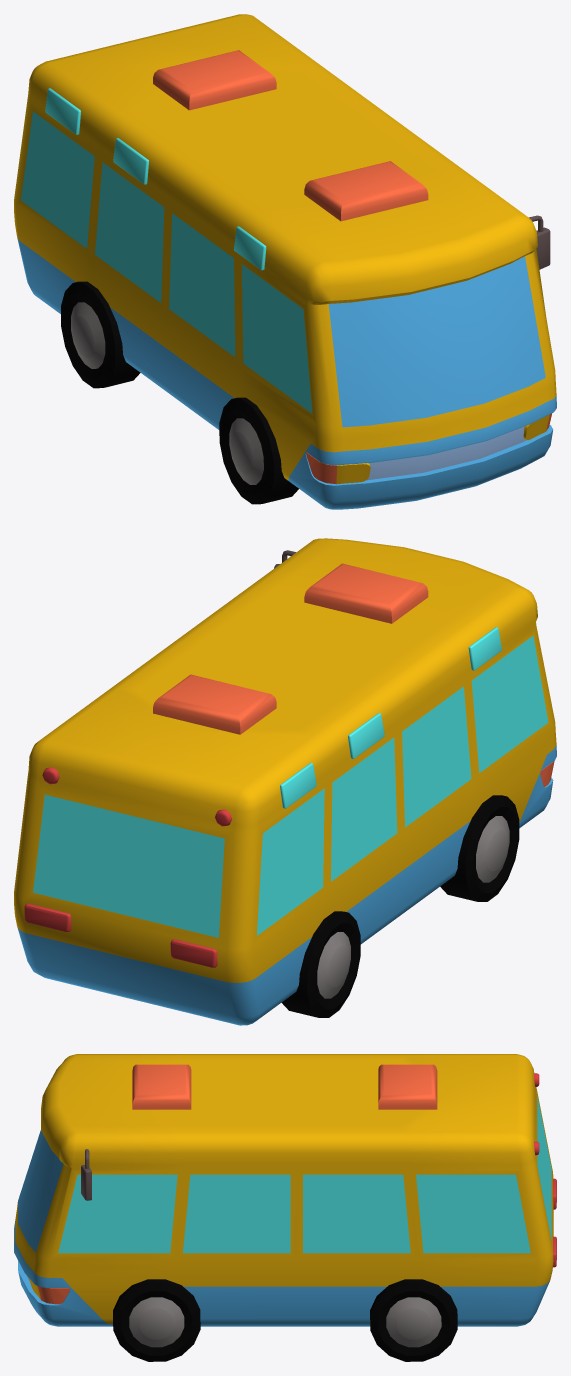
Rendered from van.fbx.
3 renders of one model, top to bottom at view 1: azimuth 30°, elevation 25°; view 2: azimuth 150°, elevation 25°; view 3: azimuth 270°, elevation 25°, orthographic. The views are drawn at different scales.
Parts seen in each view (by area): view 1: body.003, tyre.030, tyre.013; view 2: body.003, tyre.030, tyre.013; view 3: body.003, tyre.002, tyre.031.
Part boxes in pixels (x1,y1,x2,y2): body.003: (14, 14, 556, 509); tyre.030: (219, 397, 298, 504); tyre.013: (61, 281, 140, 388); body.003: (14, 538, 556, 1025); tyre.030: (440, 795, 519, 901); tyre.013: (281, 911, 360, 1017); body.003: (14, 1054, 556, 1326); tyre.002: (113, 1279, 200, 1361); tyre.031: (370, 1279, 457, 1361).
Bounding box in the file's own units: 2.22 × 2.29 × 4.86.
